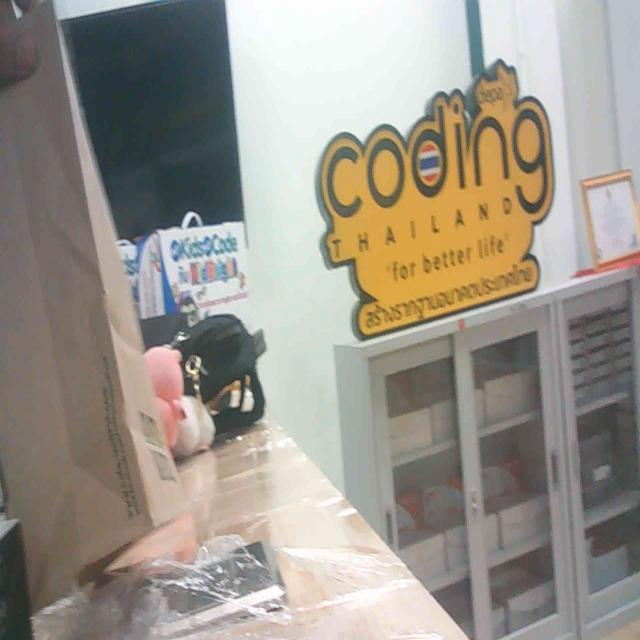bag: (0, 60, 165, 552)
